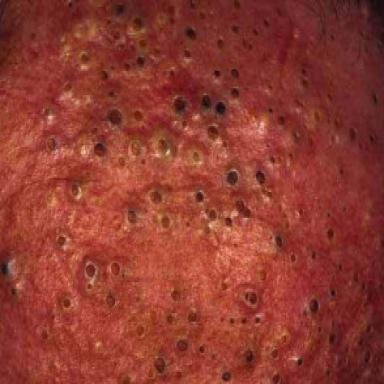acne: (84, 260, 98, 290), (235, 200, 251, 218), (0, 258, 15, 277), (173, 96, 187, 114), (57, 233, 70, 251), (154, 356, 167, 374), (107, 109, 122, 124), (244, 290, 258, 306), (11, 280, 23, 298), (59, 295, 73, 309), (47, 137, 59, 152), (227, 170, 239, 185), (71, 184, 82, 200), (47, 192, 58, 208), (200, 93, 211, 109), (158, 138, 169, 154), (131, 140, 142, 156), (94, 142, 106, 156), (167, 5, 175, 24), (127, 208, 137, 223), (215, 101, 226, 114), (44, 103, 55, 116), (133, 17, 144, 30), (185, 27, 196, 40), (118, 373, 131, 384), (309, 299, 319, 313), (208, 126, 218, 140), (176, 340, 188, 351), (110, 262, 120, 275), (367, 289, 377, 302), (335, 353, 343, 369), (151, 191, 161, 203), (80, 51, 90, 63), (106, 294, 115, 307), (161, 215, 170, 228), (256, 171, 265, 184), (171, 289, 181, 300), (275, 235, 283, 248), (364, 350, 371, 364), (245, 350, 253, 362), (209, 209, 217, 221), (188, 311, 197, 321), (263, 189, 272, 199), (134, 110, 143, 120), (115, 5, 125, 14), (196, 191, 204, 202), (231, 87, 239, 98), (137, 55, 145, 66), (349, 128, 356, 140), (222, 371, 230, 381), (272, 373, 280, 383), (277, 115, 285, 125), (101, 70, 109, 80), (301, 78, 309, 88), (372, 92, 378, 105), (137, 325, 144, 336), (64, 82, 72, 91), (231, 69, 239, 78), (369, 134, 377, 143), (334, 119, 342, 128), (167, 313, 174, 323), (259, 270, 266, 280), (327, 228, 334, 238), (353, 271, 359, 282), (225, 218, 233, 226), (271, 349, 278, 358), (234, 0, 241, 9), (293, 131, 300, 140), (113, 31, 120, 40), (42, 330, 48, 340), (329, 334, 335, 344), (193, 152, 199, 162), (217, 39, 223, 49), (254, 315, 261, 323), (221, 282, 228, 290), (204, 225, 211, 233), (139, 40, 146, 48), (118, 44, 125, 52), (377, 240, 384, 248), (297, 357, 303, 366), (366, 325, 372, 334), (119, 157, 125, 166), (185, 49, 191, 58), (314, 111, 320, 120), (232, 25, 239, 32), (281, 335, 287, 343), (311, 251, 317, 259), (263, 19, 269, 27), (175, 371, 181, 379), (199, 346, 205, 353), (108, 90, 115, 96), (181, 120, 187, 127), (214, 70, 221, 76), (325, 368, 331, 375), (199, 12, 205, 19), (327, 93, 332, 101), (191, 0, 196, 8), (277, 8, 282, 16), (67, 0, 72, 8), (241, 318, 247, 324), (229, 318, 235, 324), (253, 29, 259, 35), (169, 70, 175, 76), (154, 49, 160, 55), (131, 43, 135, 52), (361, 281, 365, 290), (125, 64, 130, 71), (338, 263, 342, 271), (270, 157, 275, 163), (302, 310, 307, 316), (291, 254, 295, 261), (331, 289, 335, 296), (318, 326, 322, 333), (301, 69, 306, 74), (269, 107, 273, 113), (289, 153, 293, 159), (299, 209, 303, 215), (223, 141, 227, 147), (141, 159, 145, 165), (340, 168, 343, 175), (327, 213, 331, 218), (141, 125, 145, 130), (186, 221, 190, 226), (233, 243, 238, 247), (343, 207, 347, 211), (221, 317, 224, 321)
